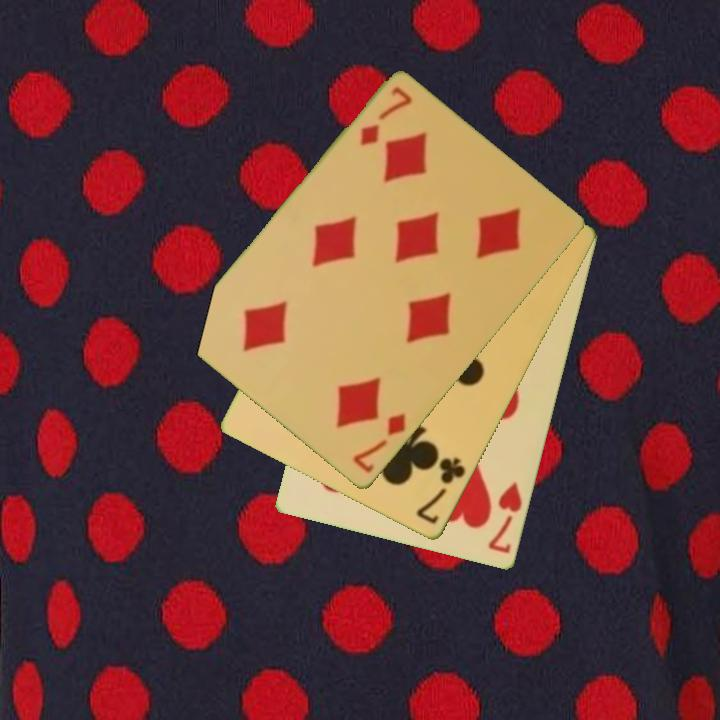7c: (413, 454, 469, 528)
7d: (349, 410, 409, 477), (356, 83, 415, 150)
7h: (484, 478, 526, 557)
